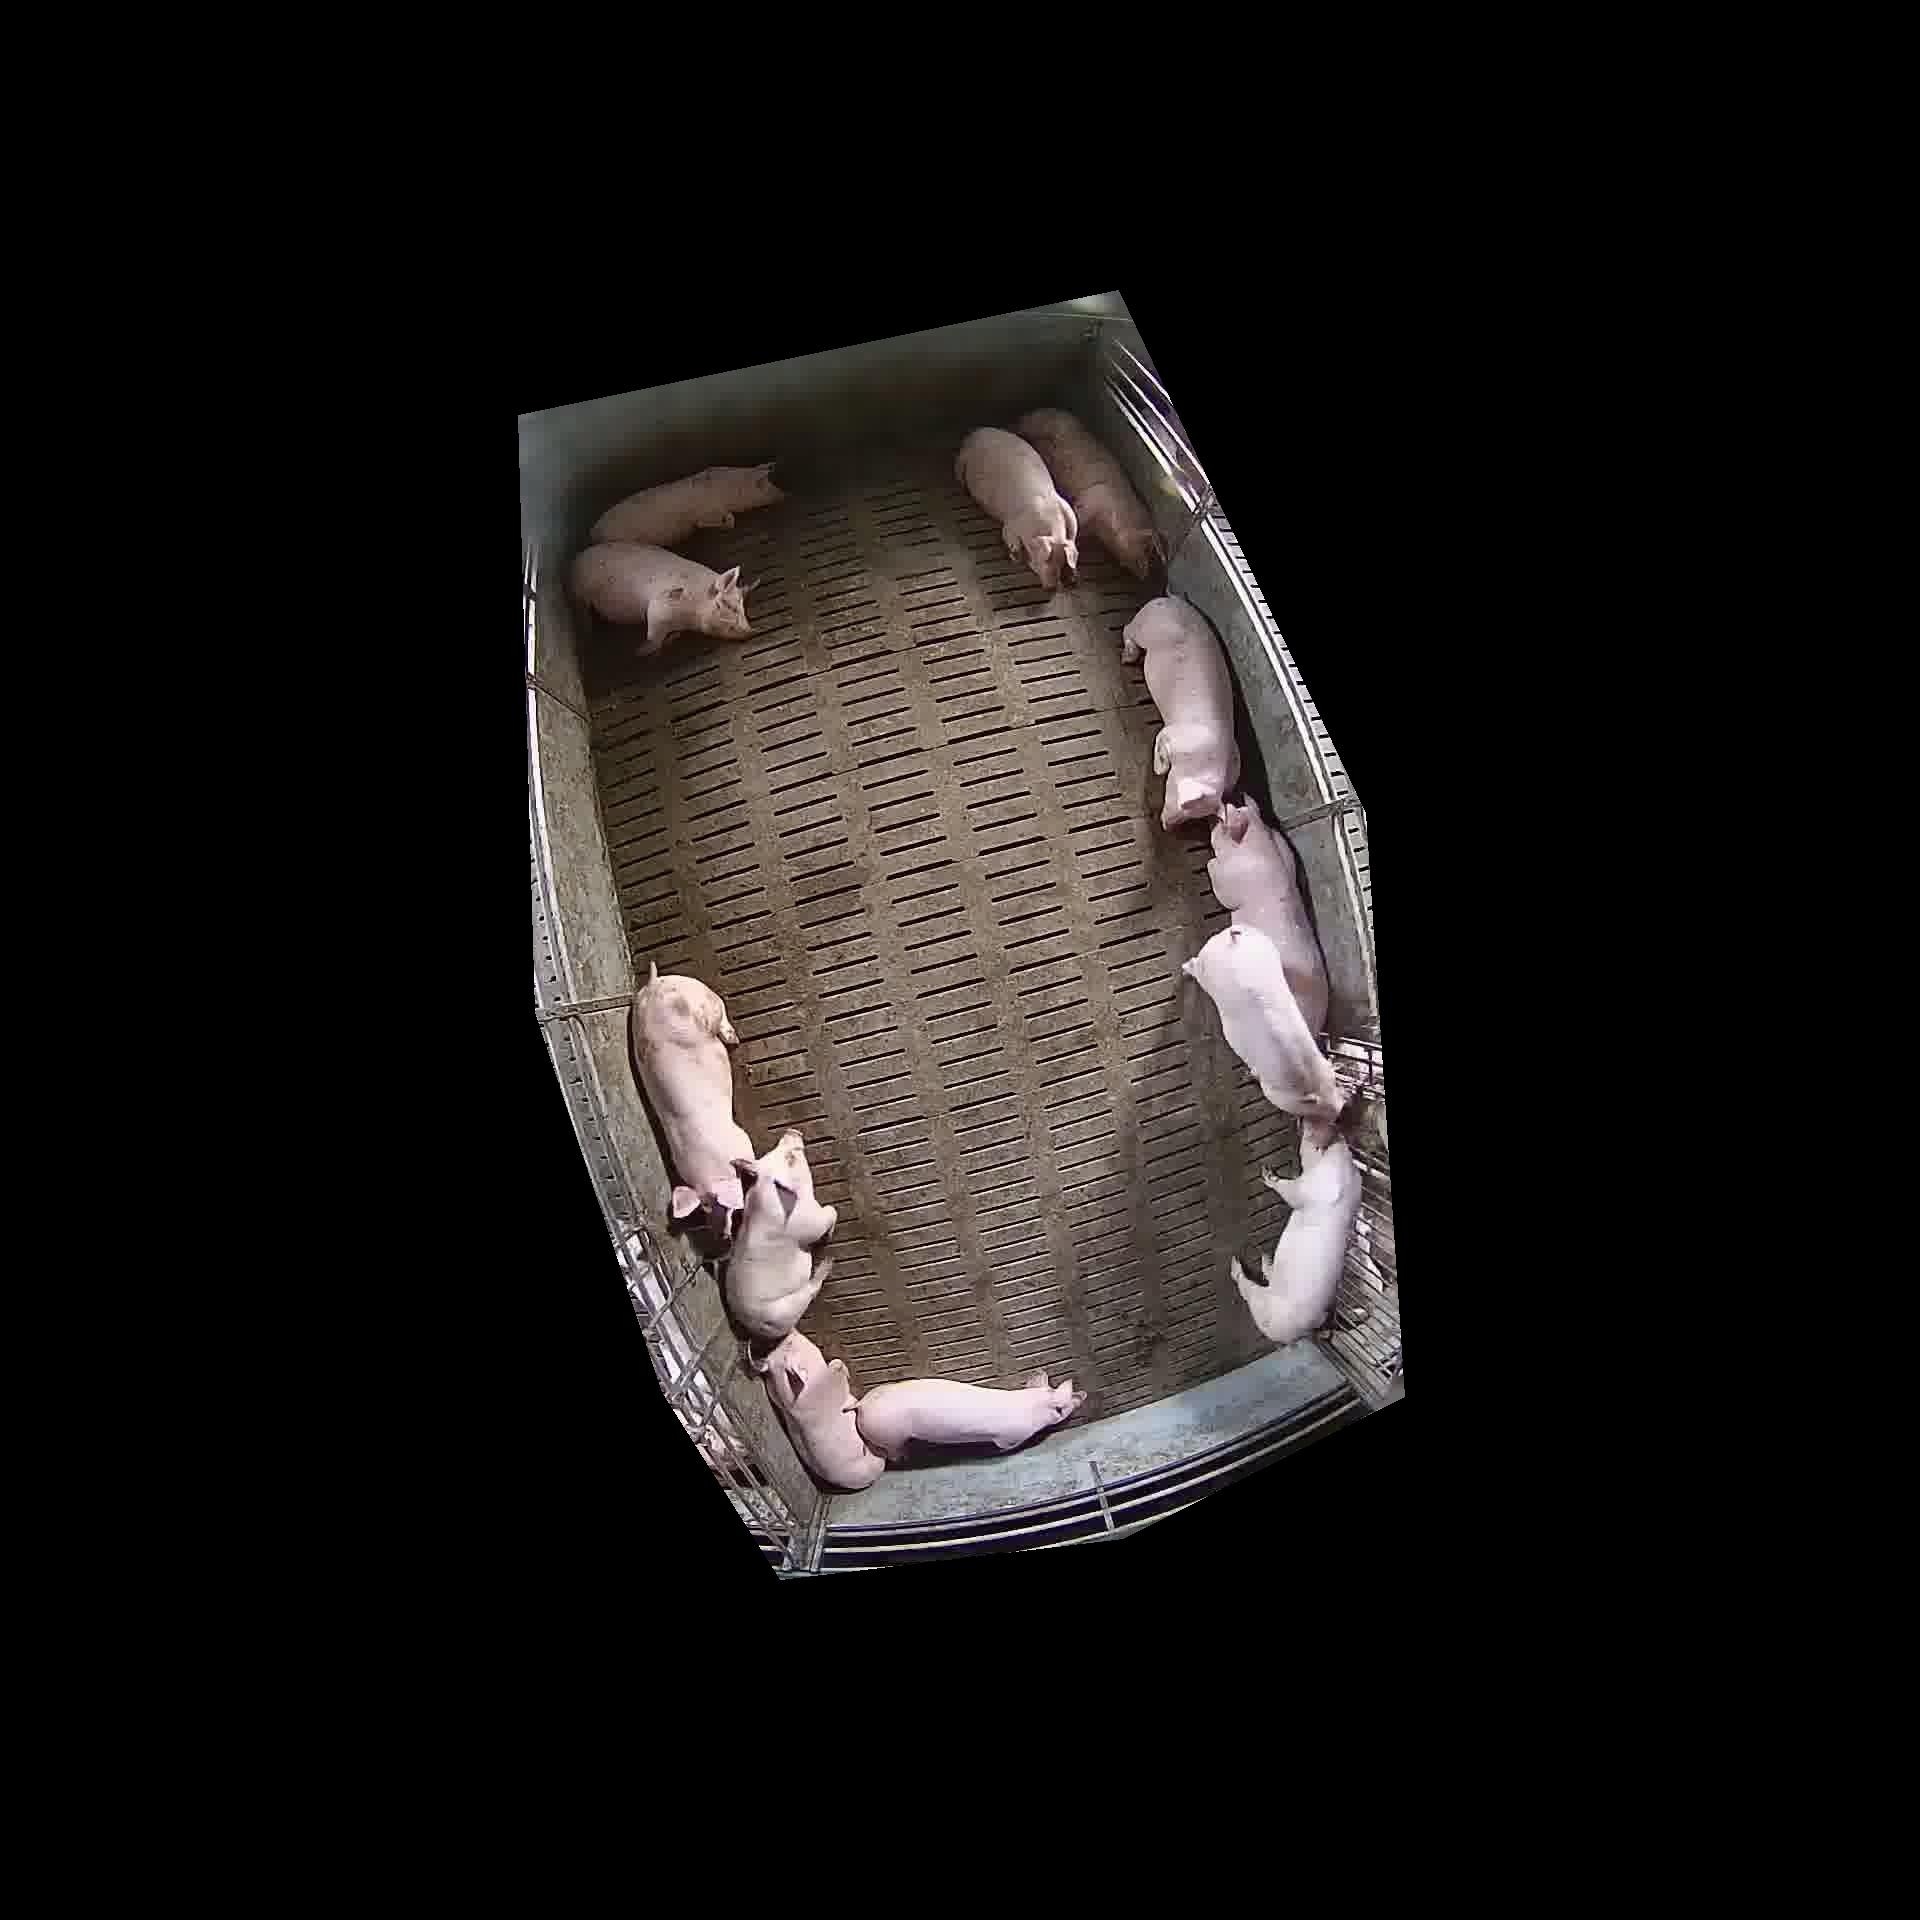pig: (632, 965, 754, 1233), (1184, 925, 1344, 1120), (1208, 796, 1328, 1034), (1231, 1123, 1360, 1343), (1123, 596, 1239, 827), (1018, 408, 1161, 577), (725, 1129, 836, 1342), (754, 1331, 884, 1489), (572, 541, 750, 654), (955, 427, 1076, 588), (856, 1375, 1084, 1459), (591, 463, 782, 546)
